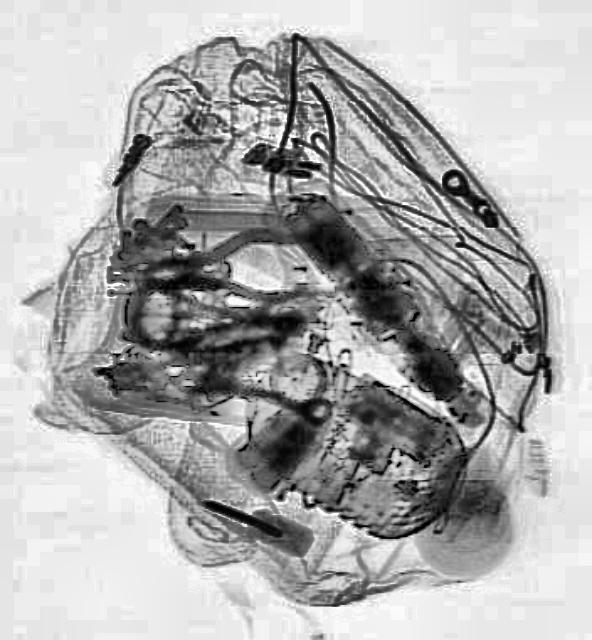Pliers: (138, 223, 310, 309)
Wrench: (176, 364, 332, 426)
